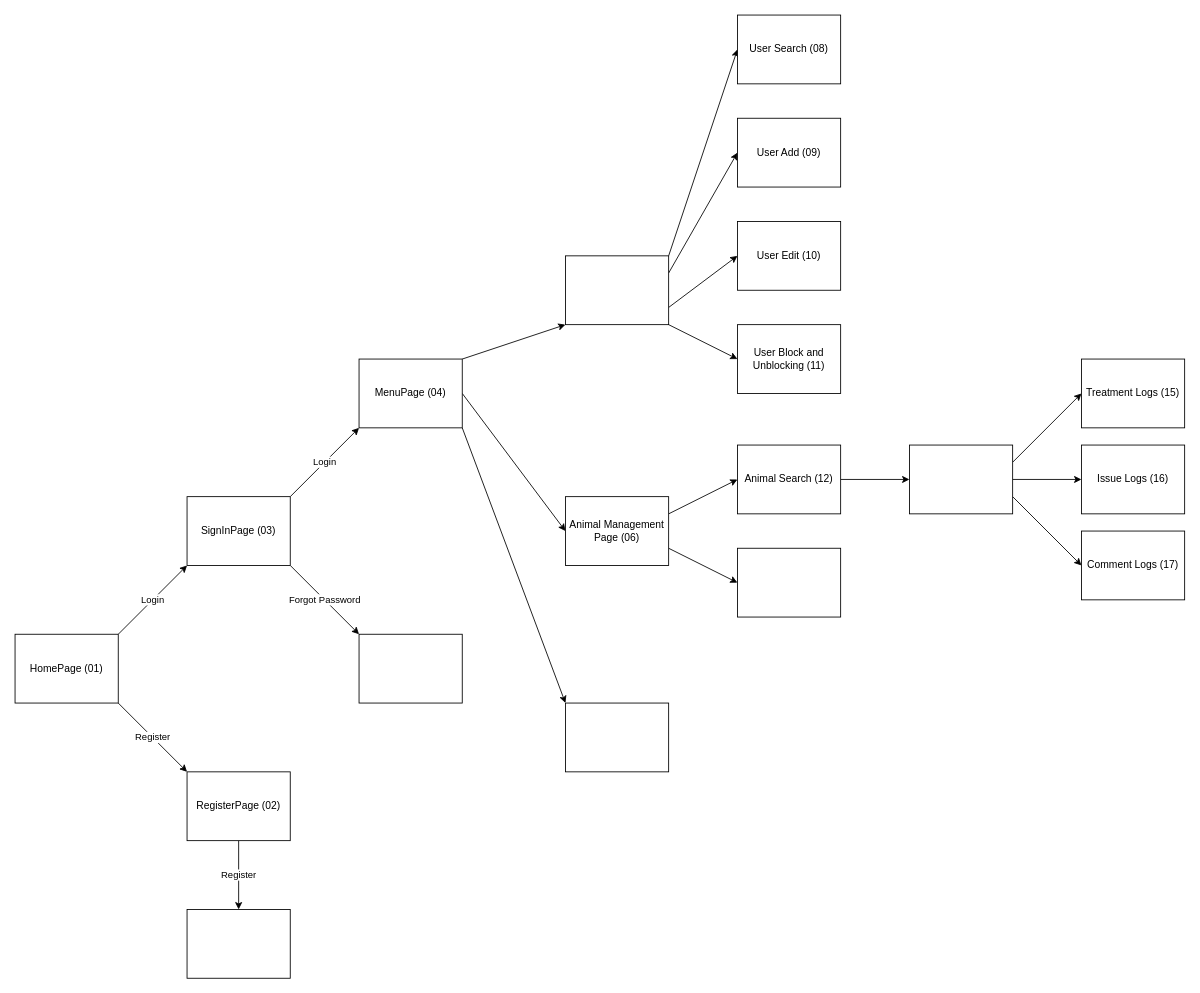
This 1200x993 diagram has some shape labels left out. Each missing label, with the centre of its shape:
Animal Add (13): the point at 789,582
Animal Profile (14): the point at 961,479
Either notify admin or send reset link: the point at 410,668
User Management Page (05): the point at 617,290
Wait for approval by admin. Notification via email.: the point at 238,943
Your account (07): the point at 617,737
